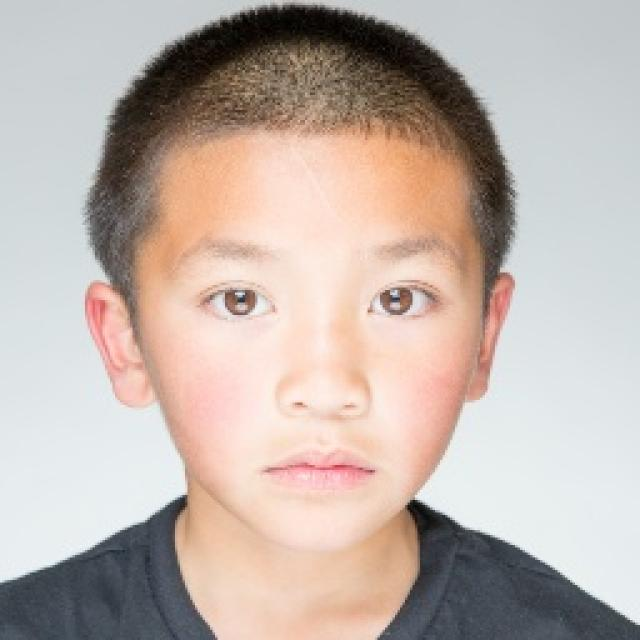earlobe: (84, 280, 156, 410), (467, 272, 515, 402)
